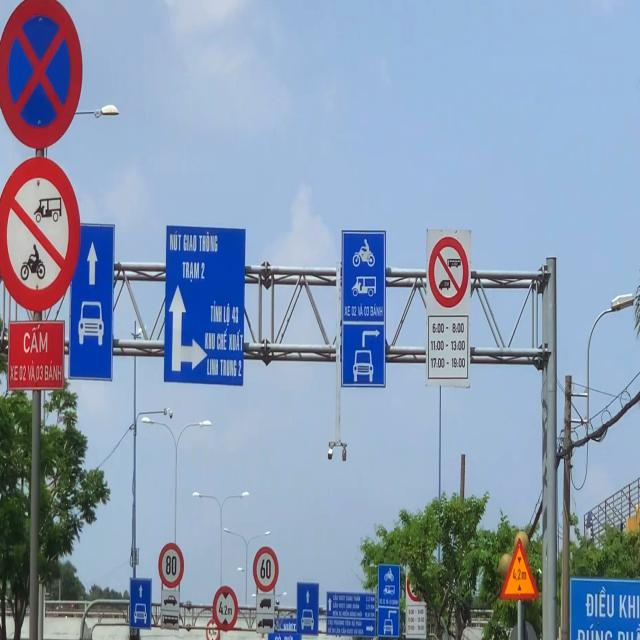Cam con lai: (0, 157, 80, 314), (427, 236, 469, 310)
Cam dung va do: (0, 0, 83, 150)
Chieu cao toi da: (213, 586, 238, 631), (206, 618, 220, 640)
Nguy hiem: (499, 538, 539, 600)
Toc do toi da: (158, 542, 184, 589), (253, 546, 279, 592)
